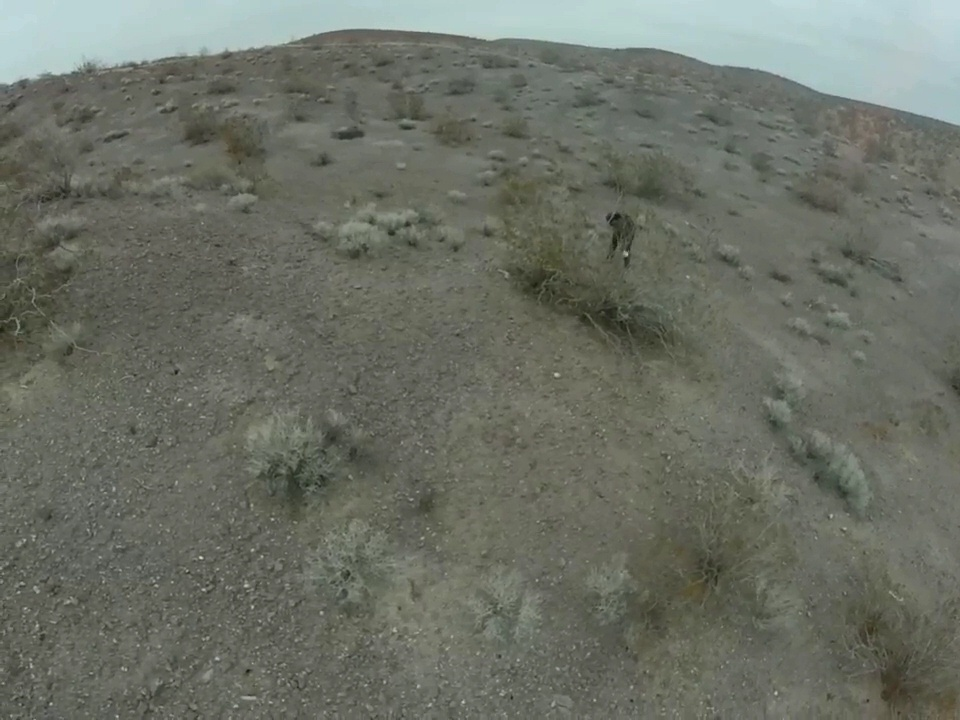insan: (602, 209, 637, 272)
